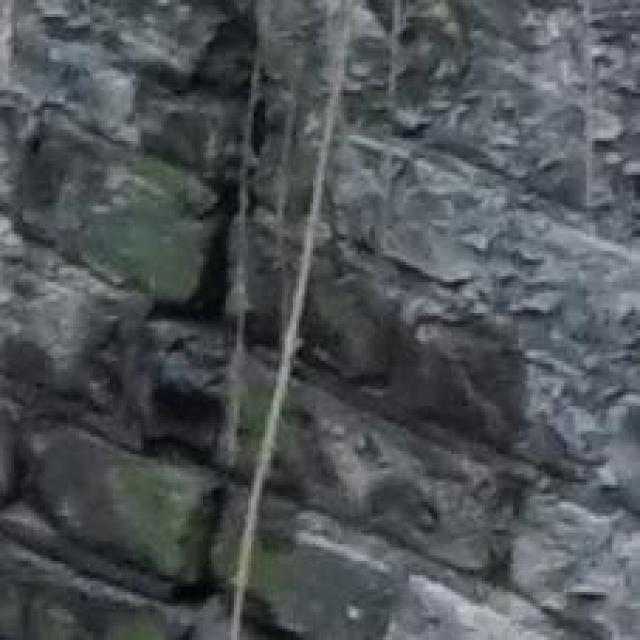Crack: (61, 0, 350, 640)
